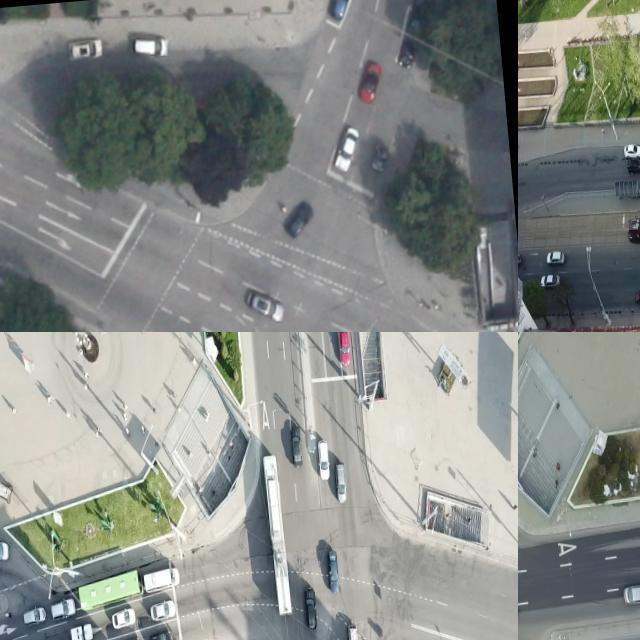UAI: (244, 284, 288, 326), (332, 122, 365, 173), (282, 197, 318, 240), (356, 59, 386, 106), (133, 32, 170, 59), (68, 36, 104, 60), (396, 36, 420, 71), (369, 141, 391, 173), (304, 585, 319, 630), (325, 0, 356, 21), (316, 439, 331, 481), (51, 597, 77, 621), (149, 598, 176, 621), (289, 424, 303, 468), (334, 461, 348, 504), (111, 607, 137, 630), (327, 550, 340, 594), (337, 332, 352, 366), (23, 606, 47, 627), (621, 581, 640, 605), (69, 622, 92, 640), (545, 248, 566, 265), (539, 274, 560, 290), (148, 629, 173, 640), (622, 143, 640, 158), (346, 622, 361, 640), (626, 156, 640, 174), (634, 286, 640, 305)
car: (263, 453, 292, 615), (77, 568, 143, 611)
harvester: (143, 566, 181, 593), (0, 536, 10, 562)
